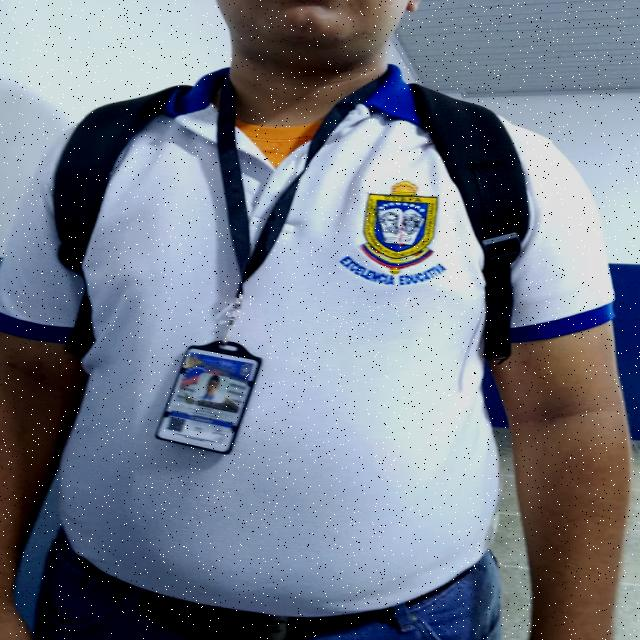carnet: (156, 347, 258, 452)
uniforme_superior: (2, 62, 614, 617)
